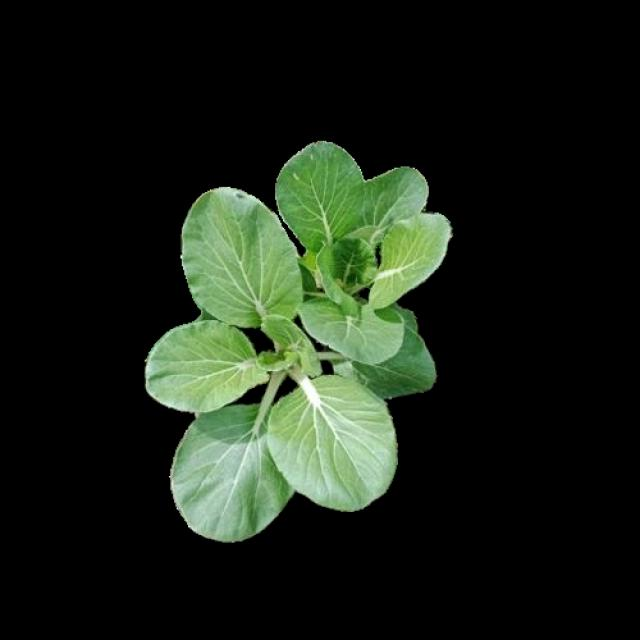healthy: (146, 141, 453, 539)
not-mature: (146, 141, 452, 540)
